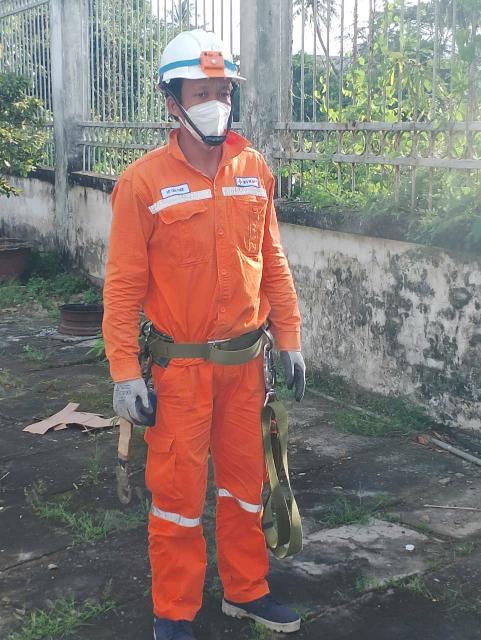gloves: (107, 361, 165, 434), (253, 333, 311, 401)
harness: (138, 311, 284, 373)
helmet: (139, 24, 256, 94)
shoes: (226, 575, 306, 640), (149, 591, 207, 640)
